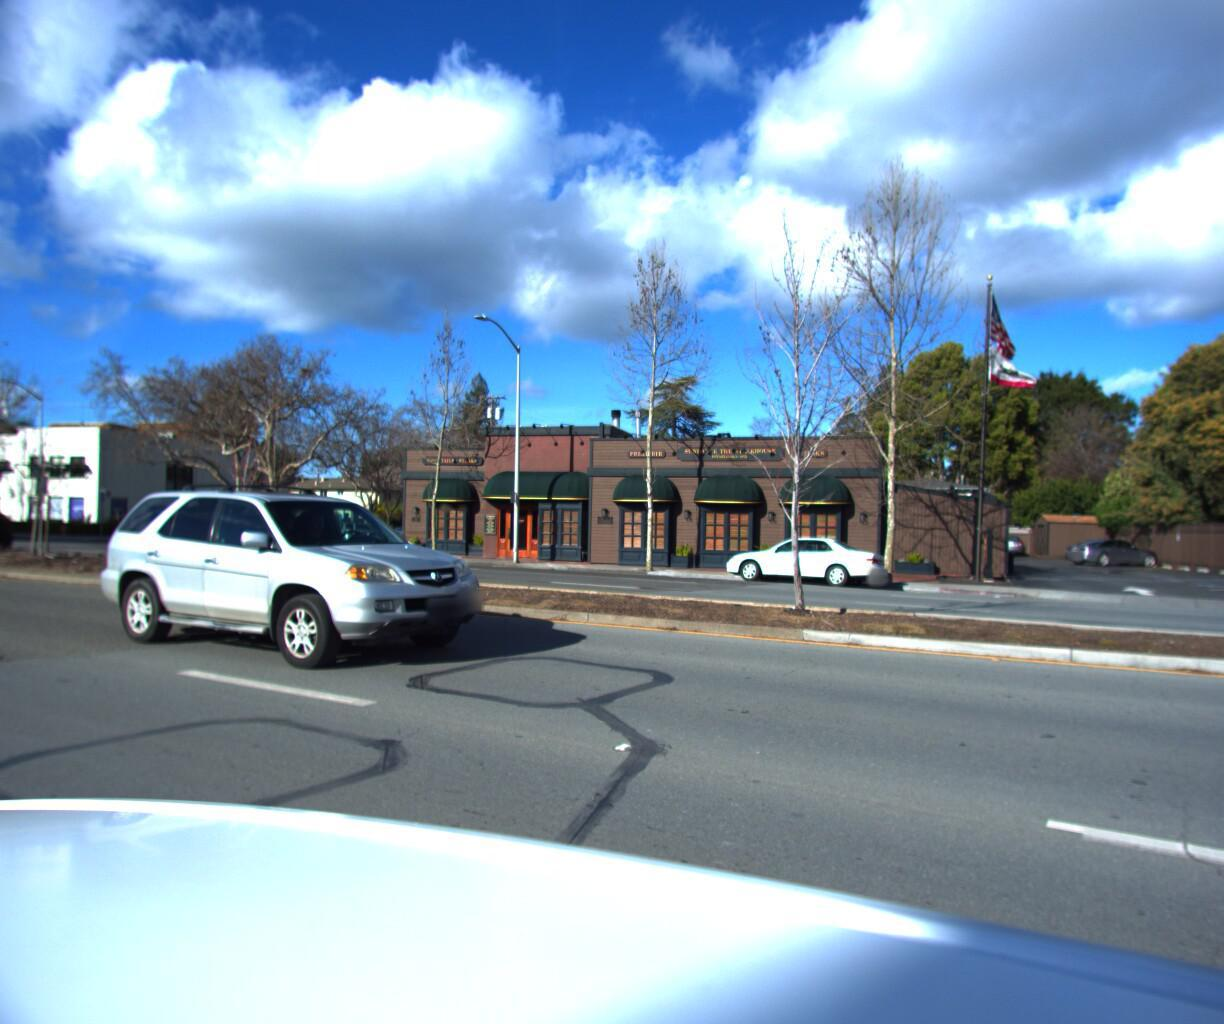car: (87, 455, 511, 673), (715, 533, 894, 597)
